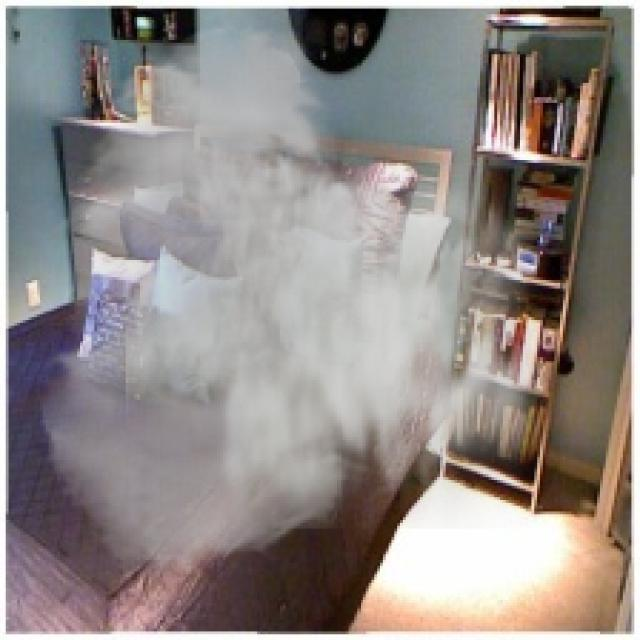Smoke: (37, 20, 569, 583)
